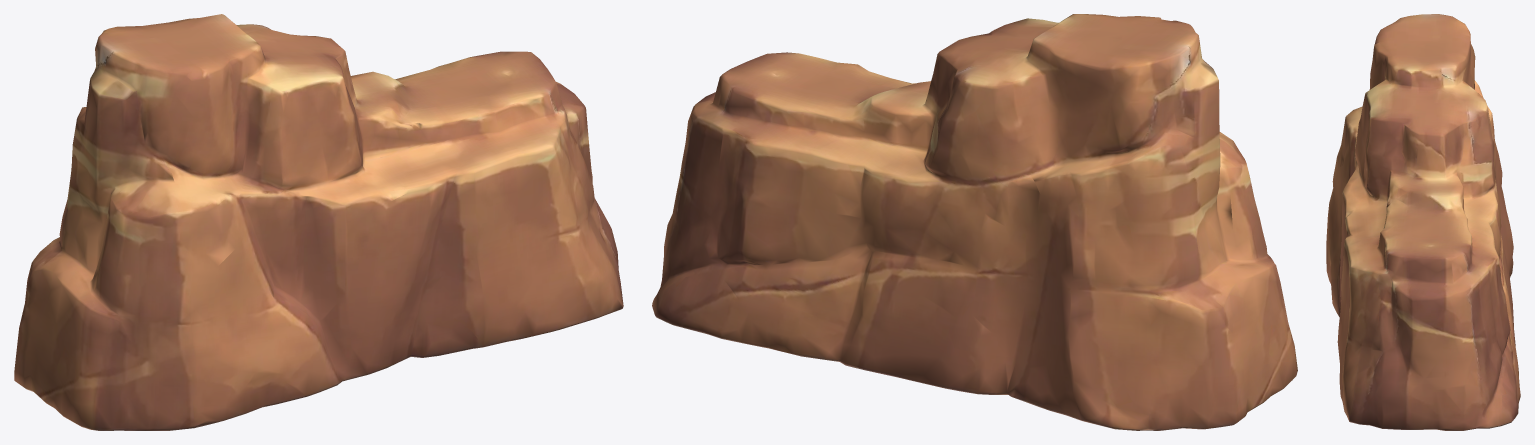
Rendered from SM_Env_DesertCliff.glb.
3 renders of one model, left to right at view 1: azimuth 30°, elevation 25°; view 2: azimuth 150°, elevation 25°; view 3: azimuth 270°, elevation 25°, orthographic. The views are drawn at different scales.
Visible parts, largest first — view 1: SM_Env_DesertCliff_LOD0; view 2: SM_Env_DesertCliff_LOD0; view 3: SM_Env_DesertCliff_LOD0.
Part boxes in pixels (x1=…): SM_Env_DesertCliff_LOD0: x1=14, y1=14, x2=623, y2=430; SM_Env_DesertCliff_LOD0: x1=652, y1=14, x2=1297, y2=430; SM_Env_DesertCliff_LOD0: x1=1326, y1=14, x2=1520, y2=430.
Size of the model in its own units: 15.11 by 8.63 by 6.23.
Materials: 1 (1 with a texture image).
